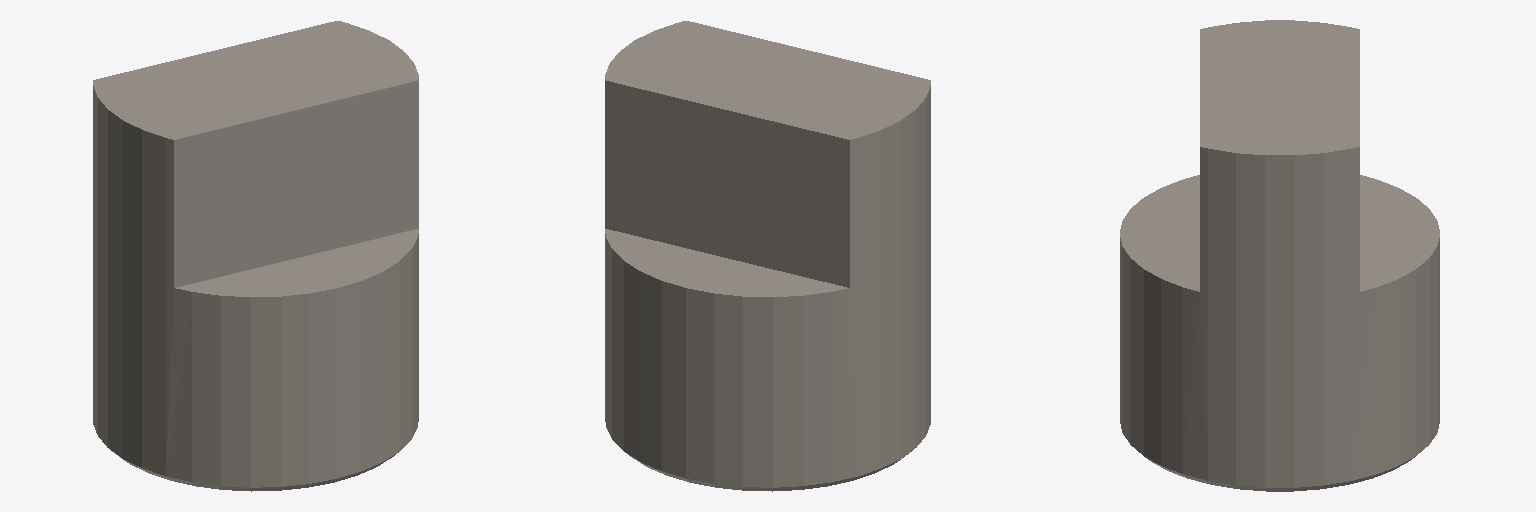
robot.urdf — peg:
<robot
  name="peg">
  <link
    name="peg">
    <inertial>
      <origin
        xyz="1.9183E-19 6.77894845483107E-19 0.015504"
        rpy="0 0 0" />
      <mass
        value="0.1584" />
      <inertia
        ixx="2.19732423542714E-05"
        ixy="3.11957589841586E-22"
        ixz="5.63846706479452E-22"
        iyy="2.45051488121168E-05"
        iyz="7.67149454453883E-22"
        izz="1.65349126324047E-05" />
    </inertial>
    <visual>
      <origin
        xyz="0 0 0"
        rpy="1.5707963267949 0 0" />
      <geometry>
        <mesh
          filename="package://sawyer_gazebo_env/models/peg/peg.STL" />
      </geometry>
      <material
        name="">
        <color
          rgba="0.64706 0.61961 0.58824 1" />
      </material>
    </visual>
    <collision>
      <origin
        xyz="0 0 0"
        rpy="1.5707963267949 0 0" />
      <geometry>
        <mesh
          filename="package://sawyer_gazebo_env/models/peg/peg.STL" />
      </geometry>
    </collision>
  </link>
  <gazebo reference="peg">
      <material>Gazebo/Black</material>
      <mu1>1000</mu1>
      <mu2>1000</mu2>
  </gazebo>
</robot>

--- What the picture shows (computed from the rendered views, not written in the file) ---
The picture shows the robot from 3 angles, left to right: view 1: azimuth 30°, elevation 25°; view 2: azimuth 150°, elevation 25°; view 3: azimuth 270°, elevation 25°; orthographic projection.
Model peg with 1 links and 0 joints (none), rooted at peg, posed all joints at 0.
Links seen in each view (by area): view 1: peg; view 2: peg; view 3: peg.
Boxes of the visible links, box(x1,y1,x2,y2) form: peg: box(93, 21, 418, 491); peg: box(605, 21, 930, 491); peg: box(1120, 20, 1439, 491).
Bounding box of the posed robot: 0.0299 × 0.03 × 0.035 m (x, y, z).
Meshes: 1 distinct files referenced, 1 mesh visuals loaded (1 binary STL).